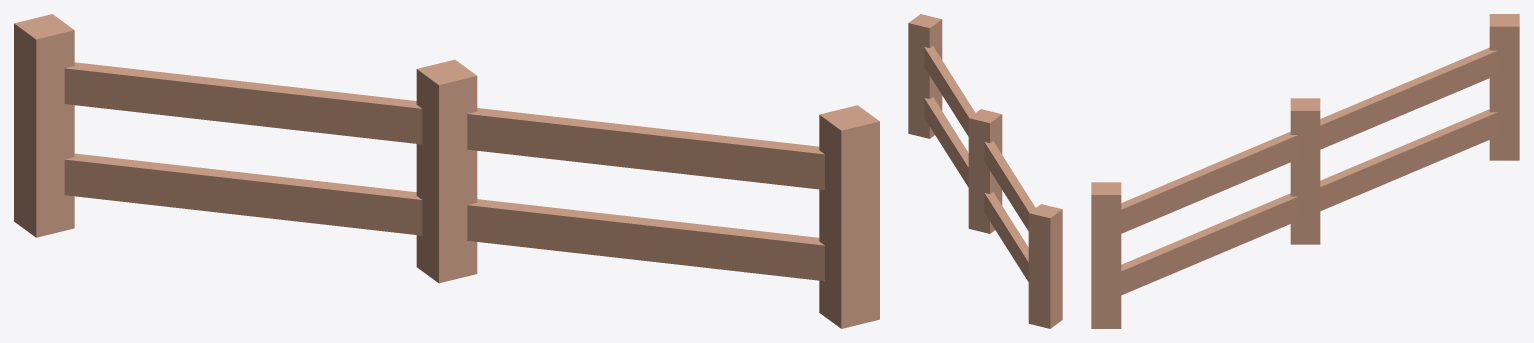
The model's file is fence_simpleDiagonalCenter.glb.
3 renders of one model, left to right at view 1: azimuth 30°, elevation 25°; view 2: azimuth 150°, elevation 25°; view 3: azimuth 270°, elevation 25°, orthographic. The views are drawn at different scales.
Parts seen in each view (by area): view 1: fence_simpleDiagonalCenter; view 2: fence_simpleDiagonalCenter; view 3: fence_simpleDiagonalCenter.
Part boxes in pixels (x1,y1,x2,y2): fence_simpleDiagonalCenter: [14, 14, 879, 328]; fence_simpleDiagonalCenter: [908, 14, 1062, 328]; fence_simpleDiagonalCenter: [1091, 14, 1519, 328].
Bounding box in the file's own units: 1 × 0.345 × 1.
